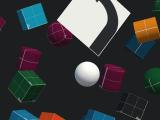Left: (57, 0, 131, 56)
